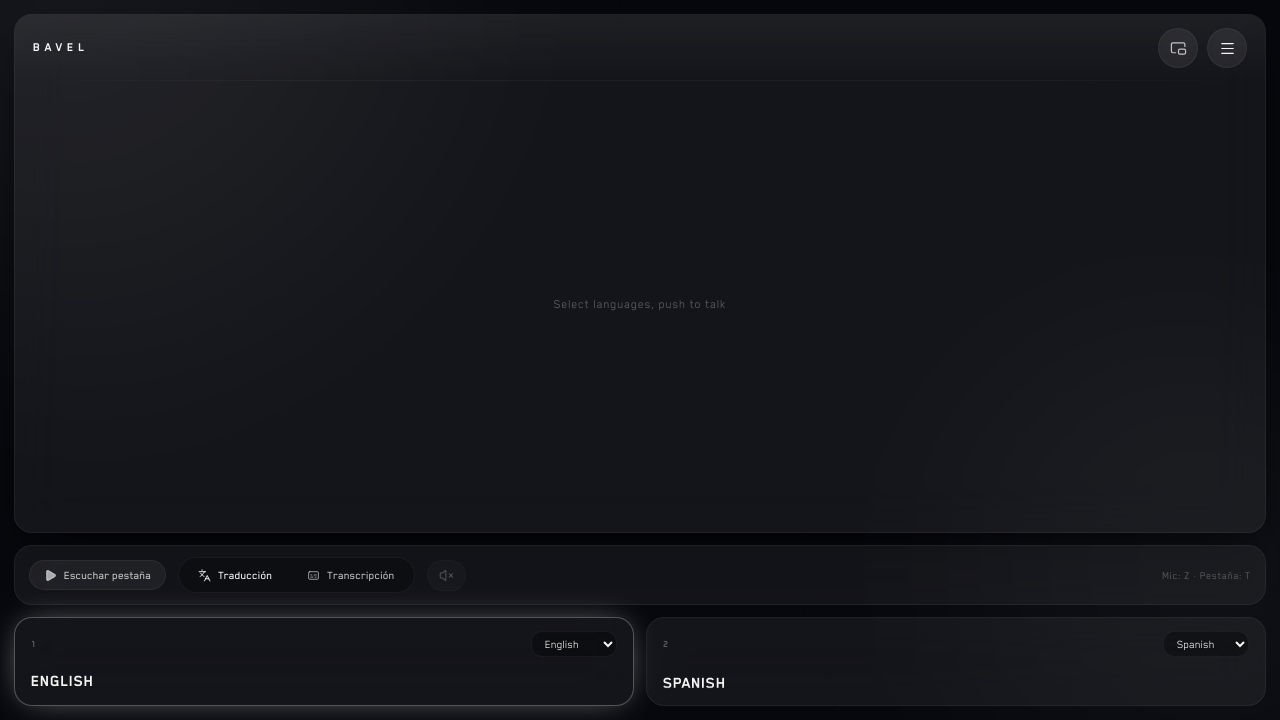
Test: streaming translation wiring › translates a clause once LocalAgreement confirms it
Click the button "Escuchar pestaña".
click(98, 575)  # box [29, 560, 166, 590]
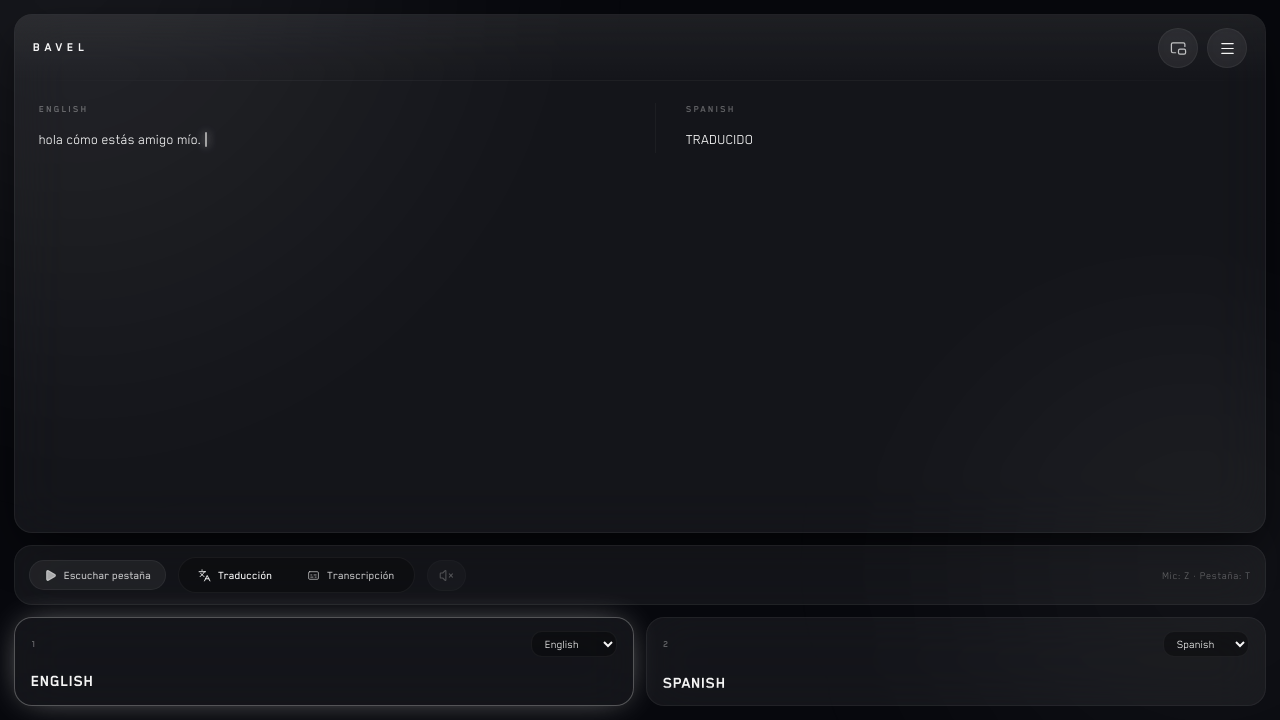
Expected: the element showing "hola cómo estás amigo mío." is shown, [39, 132, 207, 147]
